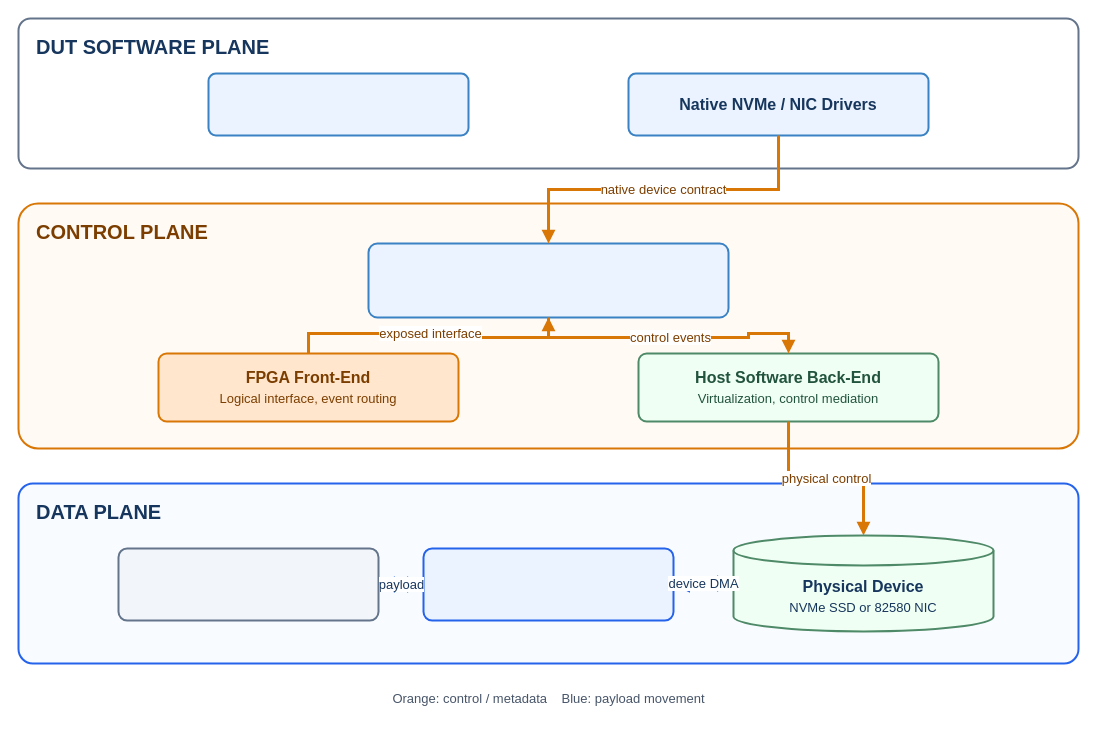
Image size: 1096x730. Some labels were removed from this diagram. The centre of each missing label's shape, as x and y in pixels:
DMA Window / Transport: the point at 548,584
DUT Memory Queues and payload buffers: the point at 248,584
DUT-Visible Device Interface Virtual BDFs, BARs, capabilities: the point at 548,280
Operating System: the point at 338,104
